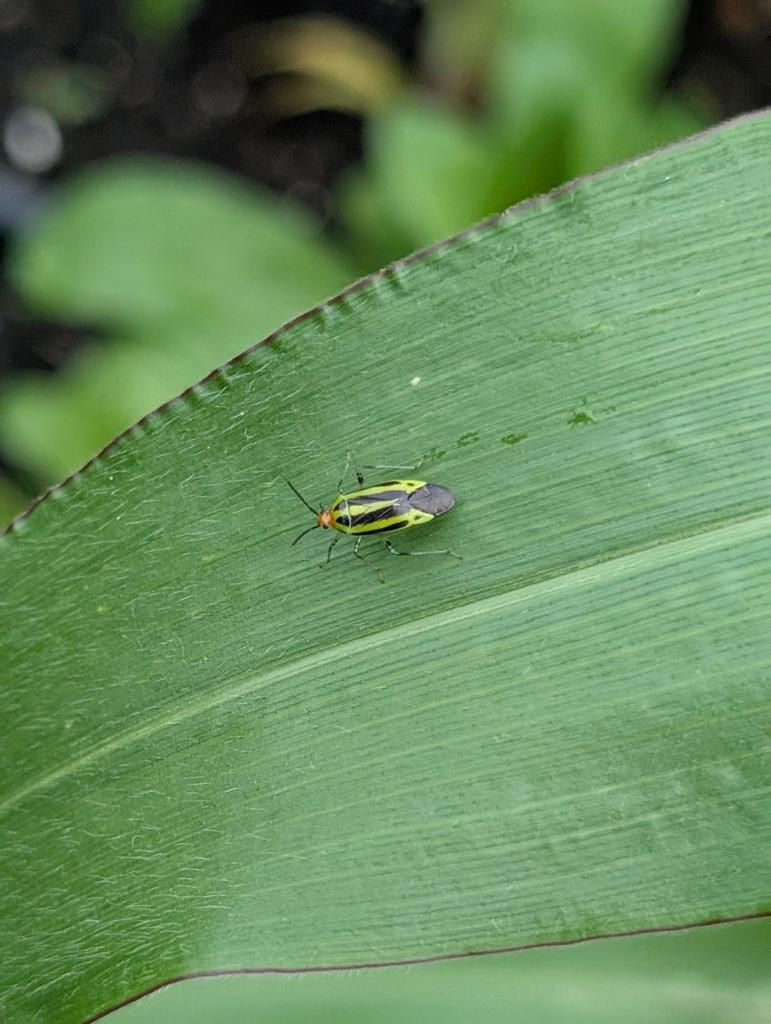plant_bugs: (251, 423, 486, 610)
